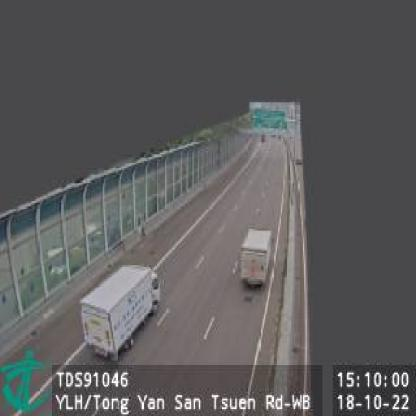Truck: (81, 264, 162, 361), (237, 225, 272, 291)
